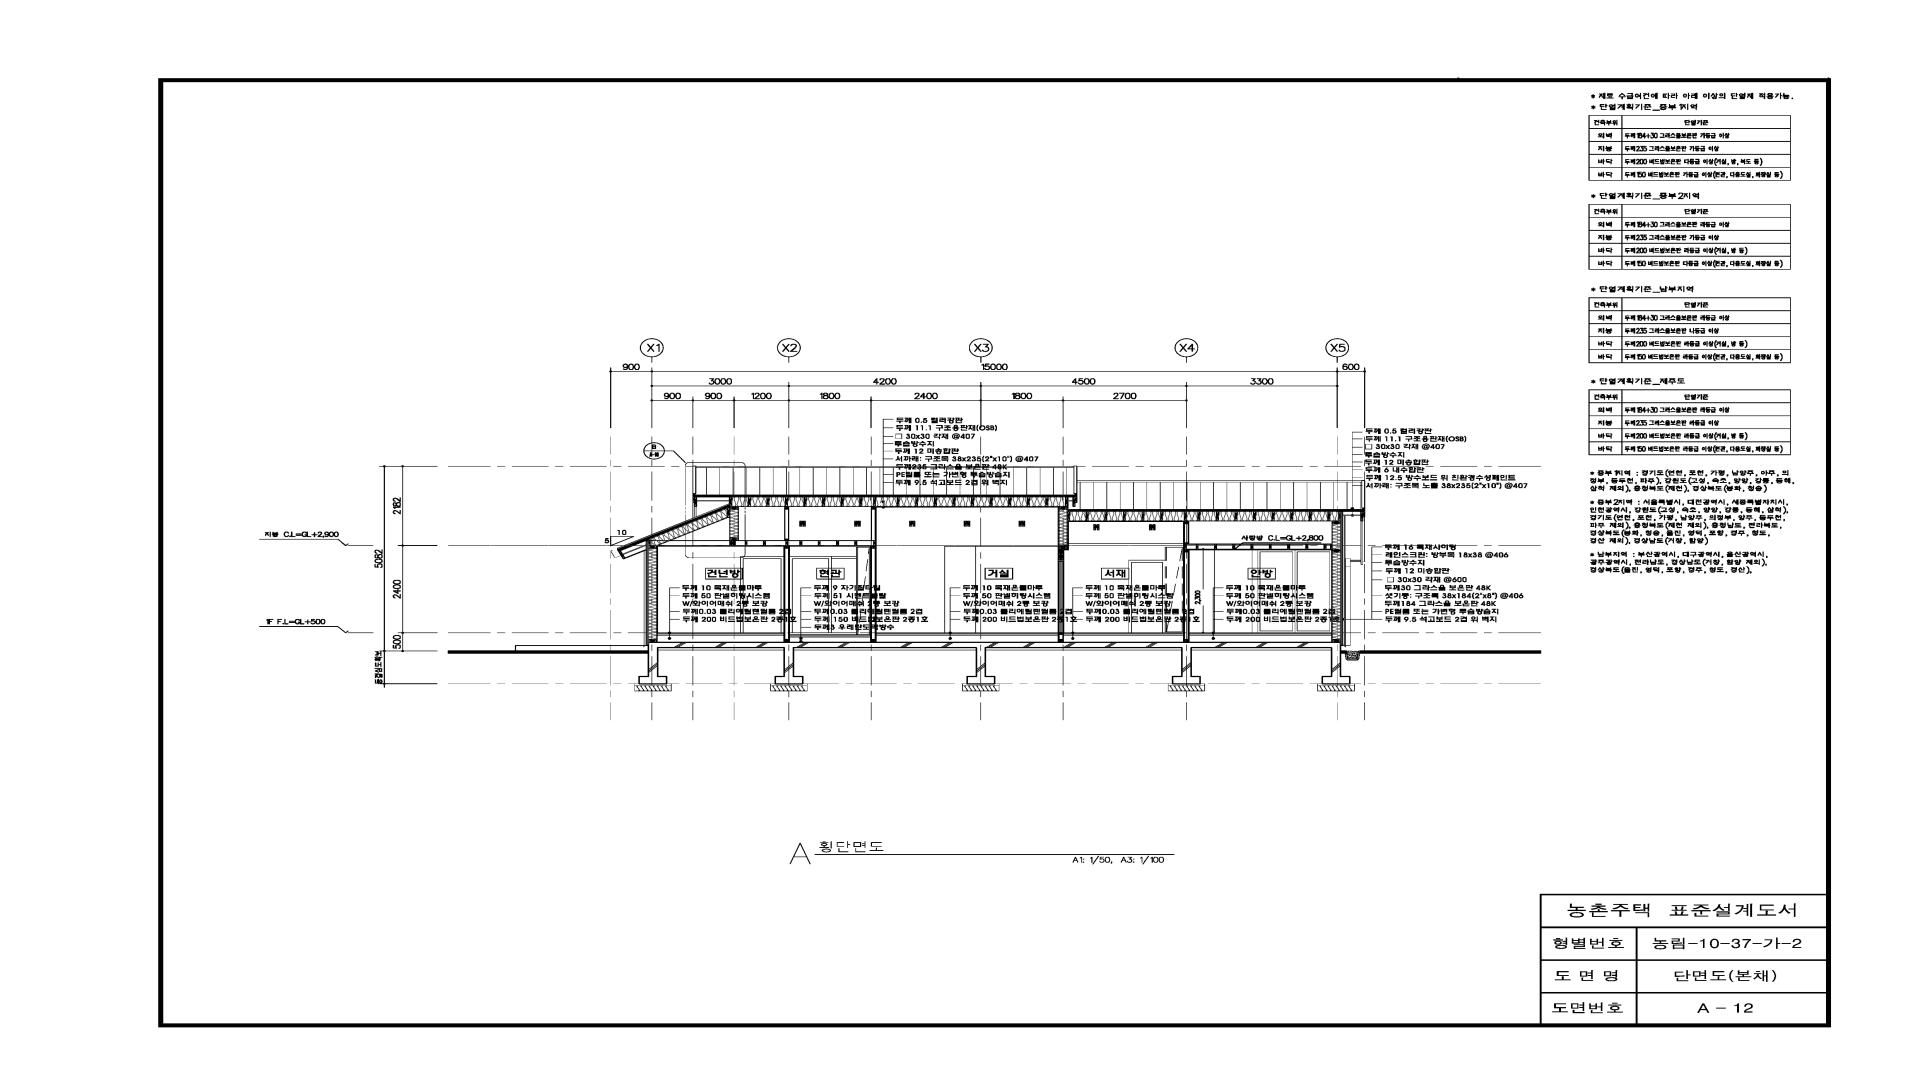door: (790, 556, 857, 634), (740, 555, 783, 633)
wall: (638, 642, 1350, 684), (617, 504, 729, 559), (728, 495, 1068, 508), (1068, 509, 1342, 522), (1331, 521, 1344, 642), (1058, 508, 1069, 642), (646, 546, 658, 642), (870, 506, 877, 642), (783, 506, 790, 642), (1183, 521, 1189, 644)
window: (1258, 550, 1332, 633)
